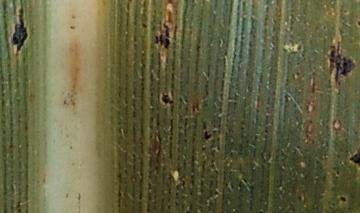tarspot: (329, 45, 356, 85), (12, 8, 27, 51), (154, 22, 171, 50), (349, 152, 360, 169), (160, 93, 174, 105), (338, 195, 348, 203), (204, 132, 212, 141), (140, 22, 149, 29), (297, 194, 303, 202), (357, 19, 360, 27)
